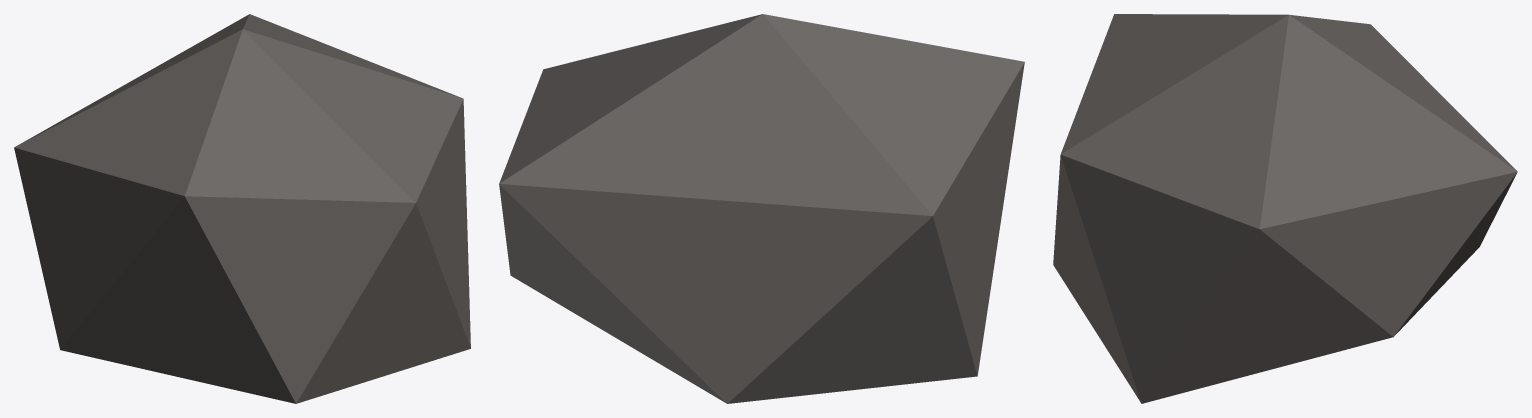
The model's file is caillou.fbx.
3 views of the same model, side by side, from view 1: azimuth 30°, elevation 25°; view 2: azimuth 150°, elevation 25°; view 3: azimuth 270°, elevation 25° (orthographic). The views are drawn at different scales.
Visible parts, largest first — view 1: Caillou; view 2: Caillou; view 3: Caillou.
Part boxes in pixels (left/top/right/bottom): Caillou: left=14, top=14, right=470, bottom=403; Caillou: left=499, top=14, right=1024, bottom=403; Caillou: left=1053, top=14, right=1517, bottom=403.
Size of the model in its own units: 187 by 142 by 186.
Materials: 1 (1 with a texture image).
